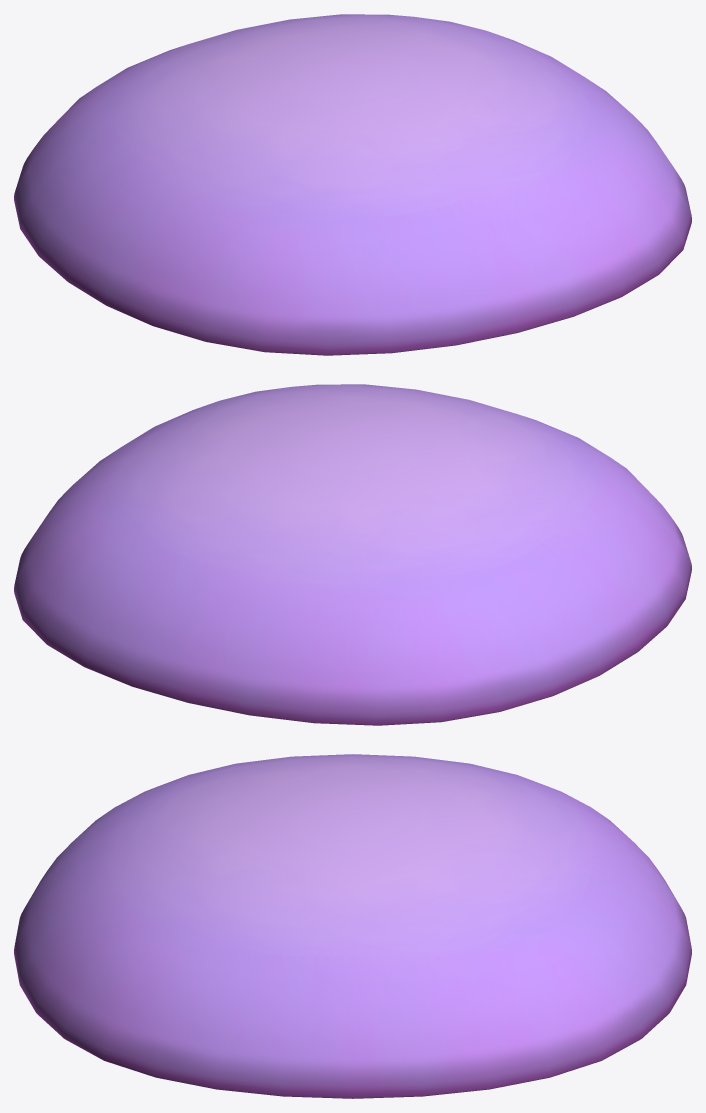
File: dome.dae
3 views of the same model, one above another, from view 1: azimuth 30°, elevation 25°; view 2: azimuth 150°, elevation 25°; view 3: azimuth 270°, elevation 25° (orthographic). The views are drawn at different scales.
Visible parts, largest first — view 1: Cube; view 2: Cube; view 3: Cube.
Part boxes in pixels (<box>): Cube: <box>14,14,691,355</box>; Cube: <box>14,384,691,725</box>; Cube: <box>14,754,691,1098</box>.
Bounding box in the file's own units: 69.69 × 69.69 × 16.37.
1 material, 1 textured.
